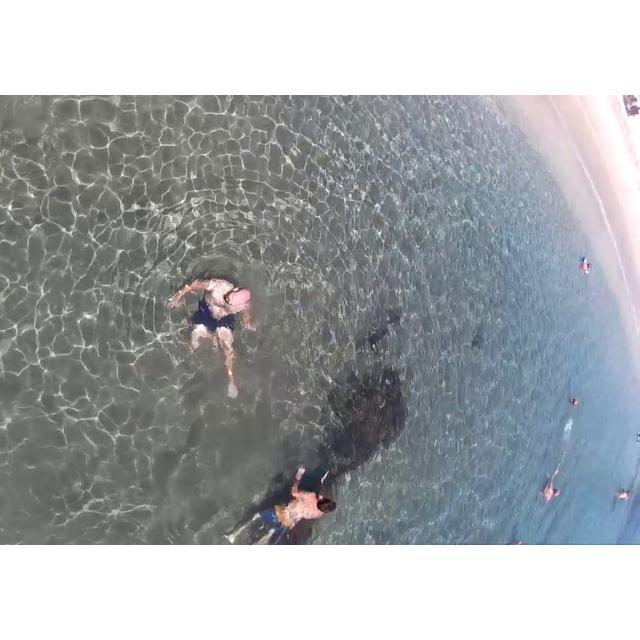human: (182, 257, 267, 430), (541, 470, 567, 511), (615, 478, 631, 509)
